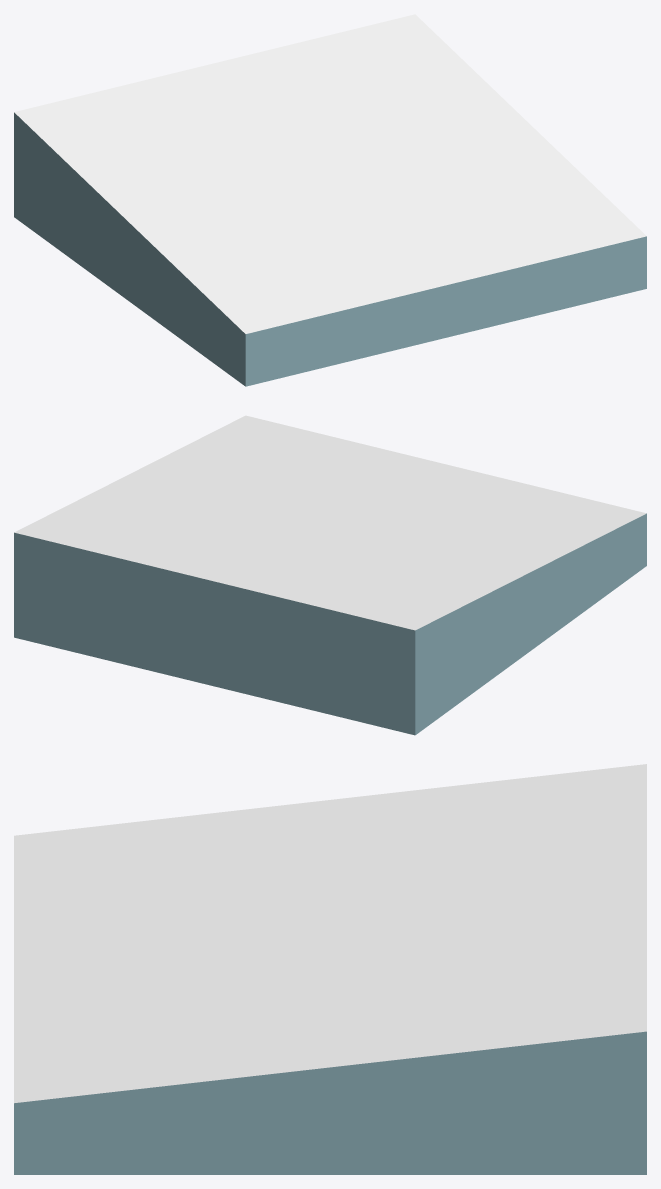
Rendered from Terrain_Tile_Ice_Snow_Ramp_01.fbx.
3 views of the same model, one above another, from view 1: azimuth 30°, elevation 25°; view 2: azimuth 150°, elevation 25°; view 3: azimuth 270°, elevation 25° (orthographic). The views are drawn at different scales.
Visible parts, largest first — view 1: Terrain_Tile_Ice_Snow_Ramp_01; view 2: Terrain_Tile_Ice_Snow_Ramp_01; view 3: Terrain_Tile_Ice_Snow_Ramp_01.
Boxes of the visible parts, x1,y1,x2,y2 form: Terrain_Tile_Ice_Snow_Ramp_01: [14, 14, 646, 386]; Terrain_Tile_Ice_Snow_Ramp_01: [14, 415, 646, 735]; Terrain_Tile_Ice_Snow_Ramp_01: [14, 764, 646, 1174].
Bounding box in the file's own units: 126 × 31.5 × 126.
